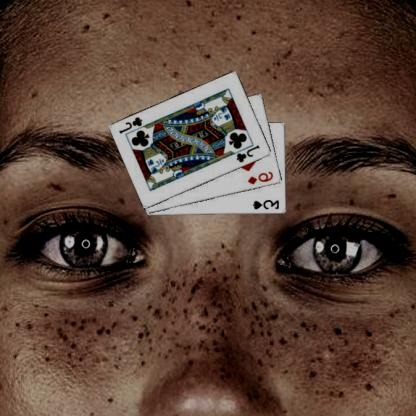3S: (253, 198, 282, 211)
6D: (247, 168, 276, 186)
JC: (236, 142, 263, 164), (118, 114, 146, 135)
